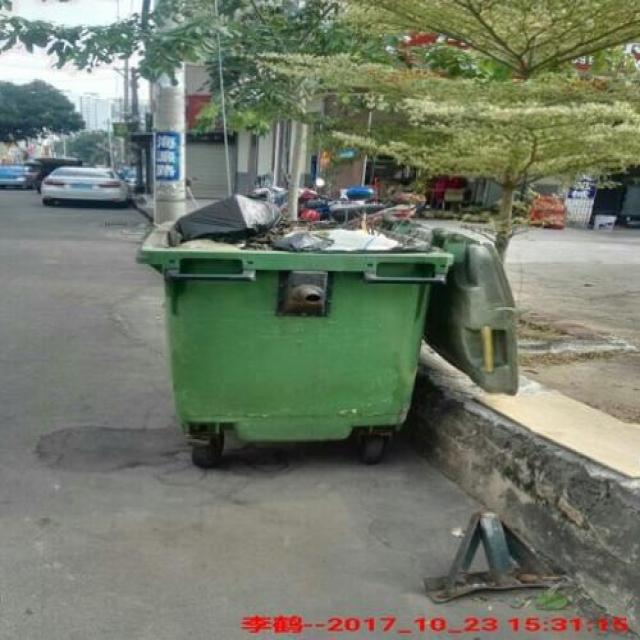overflow: (133, 194, 453, 440)
